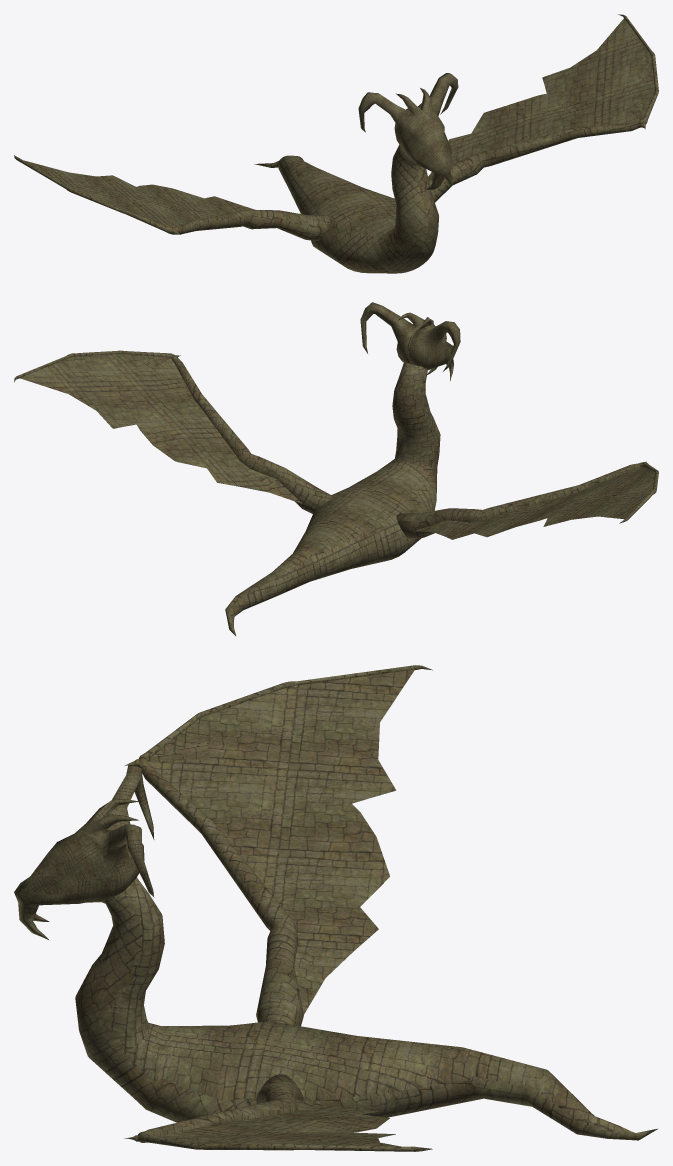
Rendered from Dragon_Statue_1.fbx.
3 views of the same model, one above another, from view 1: azimuth 30°, elevation 25°; view 2: azimuth 150°, elevation 25°; view 3: azimuth 270°, elevation 25° (orthographic). The views are drawn at different scales.
Visible parts, largest first — view 1: Cylinder; view 2: Cylinder; view 3: Cylinder.
Boxes of the visible parts, x1,y1,x2,y2 form: Cylinder: [14, 14, 658, 273]; Cylinder: [14, 302, 658, 635]; Cylinder: [14, 665, 657, 1151].
Size of the model in its own units: 32.43 by 10.45 by 18.68.
